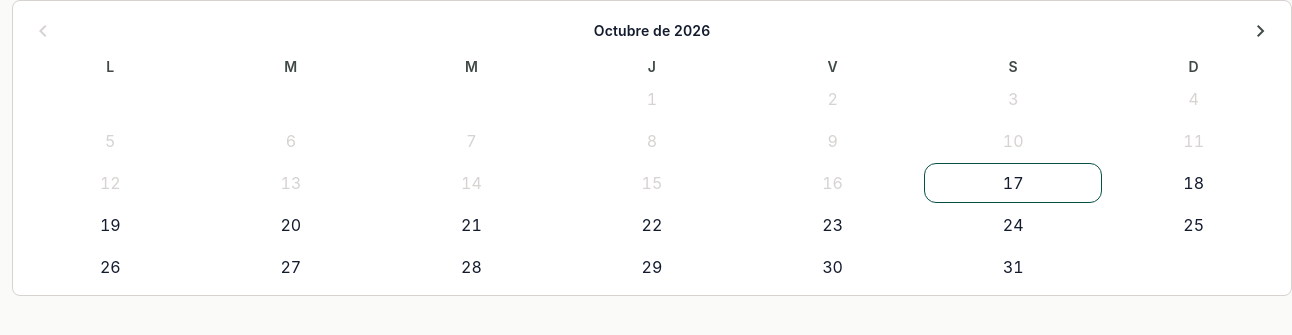
Test: marca varias fechas y las entrega ordenadas
Expected: the text "Octubre de 2026" is shown, [594,21,710,41]
Click the button named "22 de octubre": (652,225) [563,205,741,245]
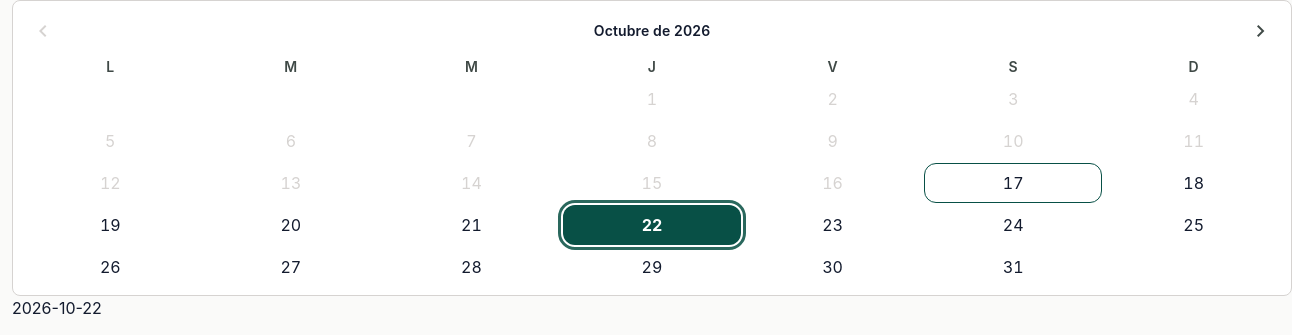
Click the button named "20 de octubre": (291,225) [202,205,380,245]
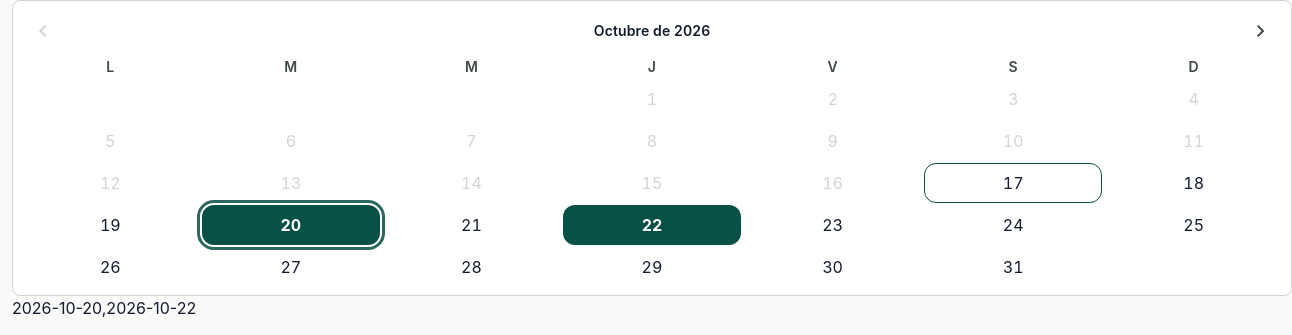
Click the button named "21 de octubre": (471,225) [382,205,561,245]
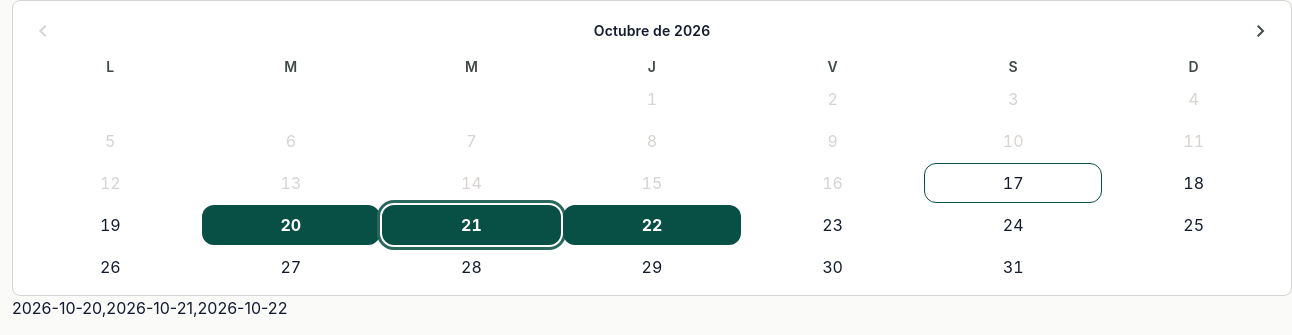
Result: the text "2026-10-20,2026-10-21,2026-10-22" is shown at [12,298,287,318]
Click the button named "21 de octubre": (471,225) [382,205,561,245]
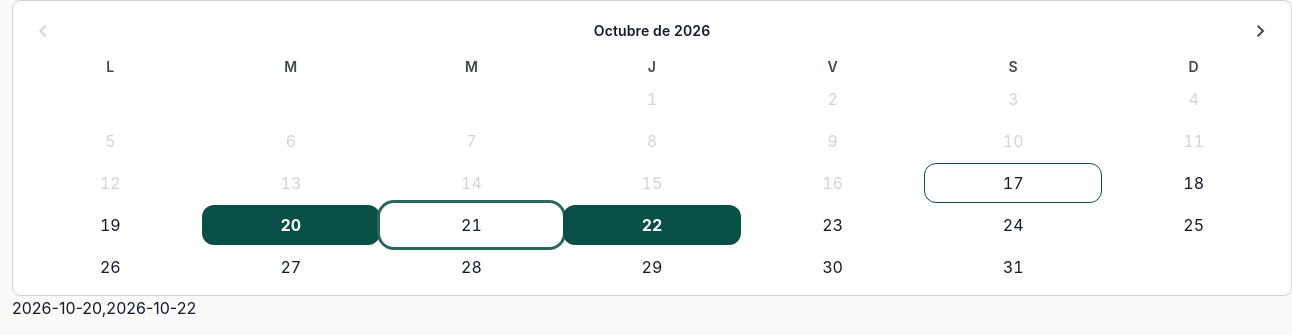
Result: the text "2026-10-20,2026-10-22" is shown at [12,298,196,318]
